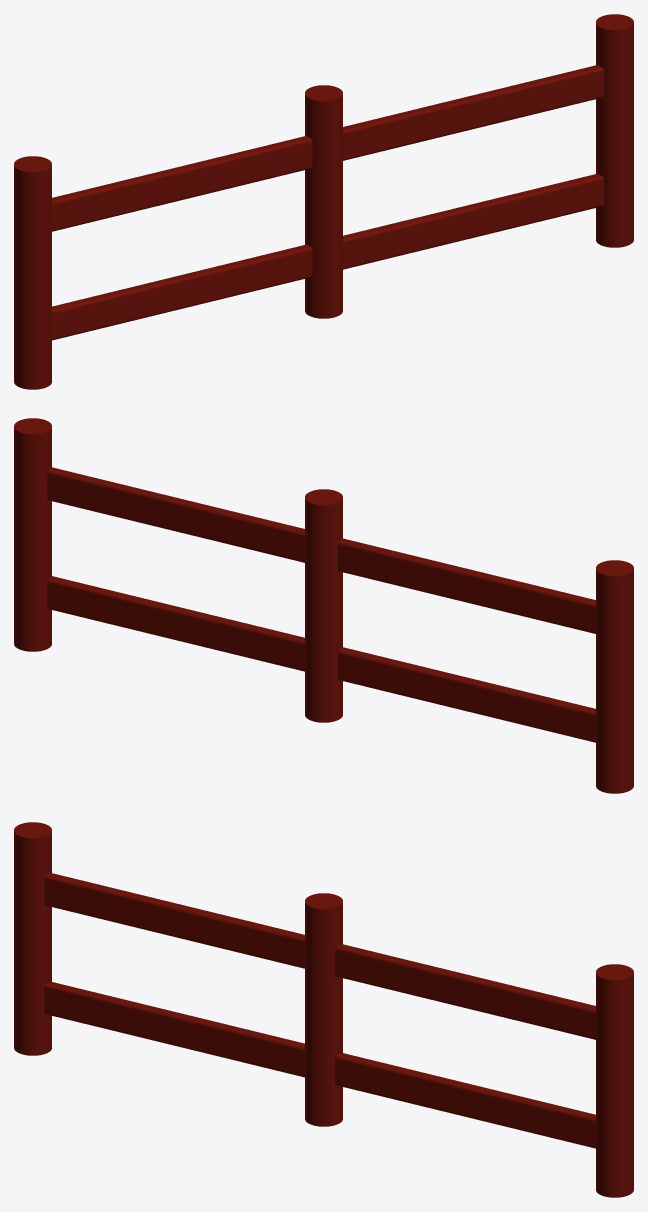
Rendered from fenceA.fbx.
3 views of the same model, one above another, from view 1: azimuth 30°, elevation 25°; view 2: azimuth 150°, elevation 25°; view 3: azimuth 330°, elevation 25° (orthographic).
Visible parts, largest first — view 1: Cylinder.003; view 2: Cylinder.003; view 3: Cylinder.003.
Part boxes in pixels (x1,y1,x2,y2): Cylinder.003: [14, 14, 633, 389]; Cylinder.003: [14, 418, 633, 793]; Cylinder.003: [14, 822, 633, 1197].
Bounding box in the file's own units: 116 × 39.37 × 6.26.
